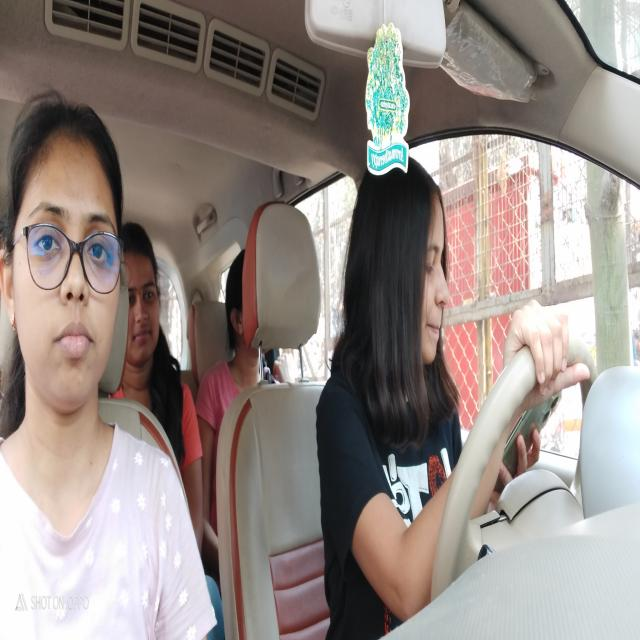mobile: (502, 376, 562, 483)
person: (0, 101, 130, 435), (338, 155, 456, 396), (126, 223, 170, 374), (224, 249, 250, 368)
